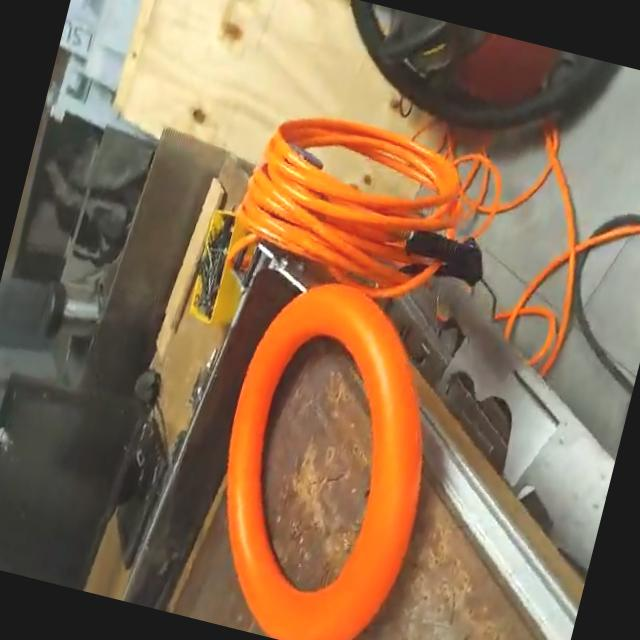note: (177, 265, 474, 640)
